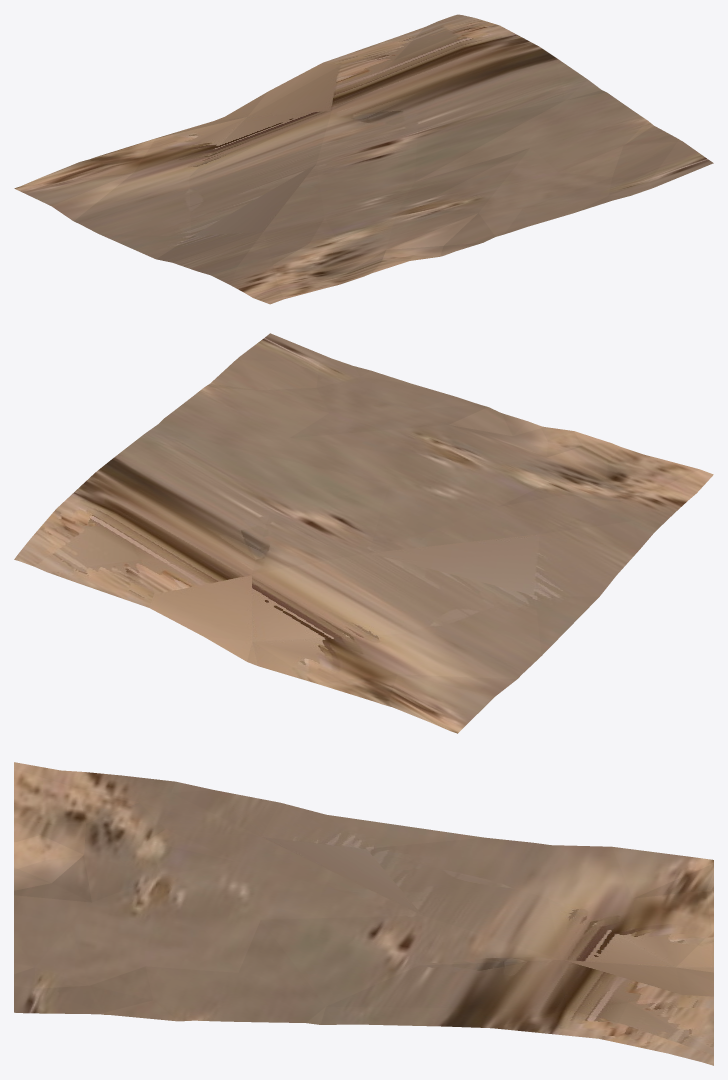
3 views of the same model, one above another, from view 1: azimuth 30°, elevation 25°; view 2: azimuth 150°, elevation 25°; view 3: azimuth 270°, elevation 25° (orthographic). The views are drawn at different scales.
Bounding box in the file's own units: 1.04 × 0.2354 × 1.04.
Materials: 3 (3 with a texture image).
